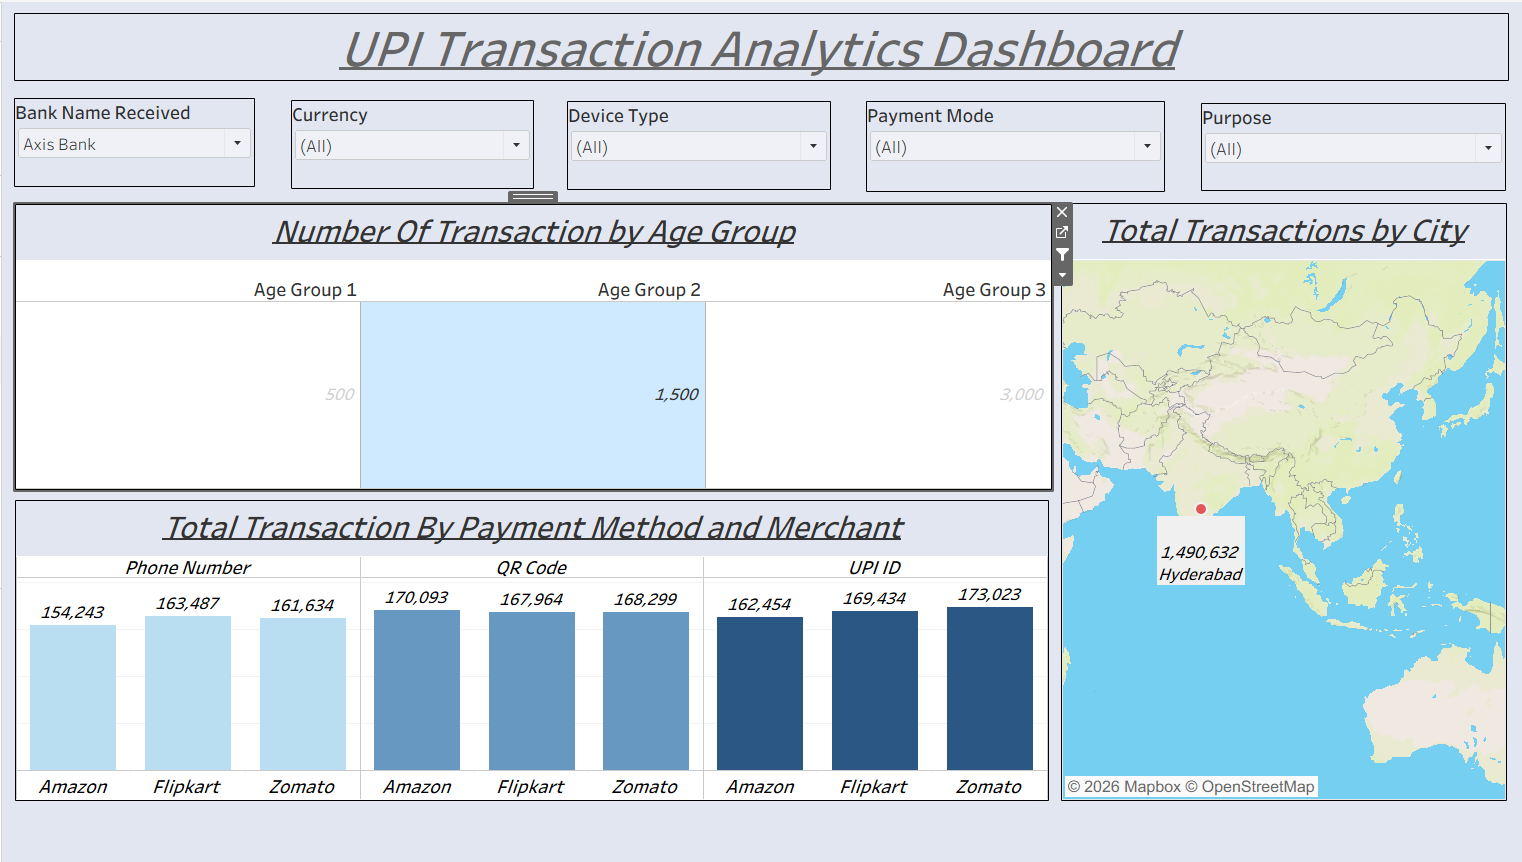

The dashboard page shown, as its layout file describes it:
{"tool":"tableau","page":{"name":"Dashboard 1","canvas":[1000,1000],"units":"permille","ordinal":0},"visuals":[{"type":"text","box":[7.9,12.8,983.6,79.1]},{"type":"filter","title":"Column Chart","param":"[federated.1atwb3i0dh8sb314y8x5f0tst5i1].[none:BankNameReceived:nk]","box":[7.9,111.6,158.6,103.5]},{"type":"filter","title":"Column Chart","param":"[federated.1atwb3i0dh8sb314y8x5f0tst5i1].[none:Currency:nk]","box":[190.1,114,159.9,103.5]},{"type":"filter","title":"Column Chart","param":"[federated.1atwb3i0dh8sb314y8x5f0tst5i1].[none:DeviceType:nk]","box":[371.7,115.1,173.7,103.5]},{"type":"filter","title":"Column Chart","param":"[federated.1atwb3i0dh8sb314y8x5f0tst5i1].[none:PaymentMode:nk]","box":[568.4,115.1,196.7,105.8]},{"type":"filter","title":"Column Chart","param":"[federated.1atwb3i0dh8sb314y8x5f0tst5i1].[none:Purpose:nk]","box":[788.8,117.4,200.7,102.3]},{"type":"worksheet","title":"Map Visual","mark":"Automatic","box":[696.7,233.7,293.4,695.4]},{"type":"worksheet","title":"Card Visual","mark":"Automatic","cols":["Calculation_1294156766425088"],"box":[8.6,234.9,682.2,332.6]},{"type":"worksheet","title":"Column Chart","mark":"Automatic","rows":["Amount"],"cols":["PaymentMethod","MerchantName"],"box":[8.6,579.1,680.3,350]}]}

Visuals, with their boxes on the dashboard's canvas, which has no fixed pixel size, in thousandths of its width and height (x1, y1, x2, y2). These are canvas units, not pixel positions in the 1522x862 screenshot, which may show the page scaled, cropped or inside an application window:
text: [left=8, top=13, right=992, bottom=92]
"Column Chart" filter: [left=8, top=112, right=166, bottom=215]
"Column Chart" filter: [left=190, top=114, right=350, bottom=218]
"Column Chart" filter: [left=372, top=115, right=545, bottom=219]
"Column Chart" filter: [left=568, top=115, right=765, bottom=221]
"Column Chart" filter: [left=789, top=117, right=990, bottom=220]
"Map Visual" worksheet: [left=697, top=234, right=990, bottom=929]
"Card Visual" worksheet: [left=9, top=235, right=691, bottom=568]
"Column Chart" worksheet: [left=9, top=579, right=689, bottom=929]
